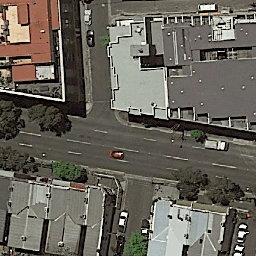car: (205, 139, 229, 151), (117, 210, 129, 233), (238, 222, 247, 244), (115, 235, 125, 254), (83, 8, 93, 26), (86, 29, 95, 47), (109, 150, 125, 159), (233, 243, 244, 256)
